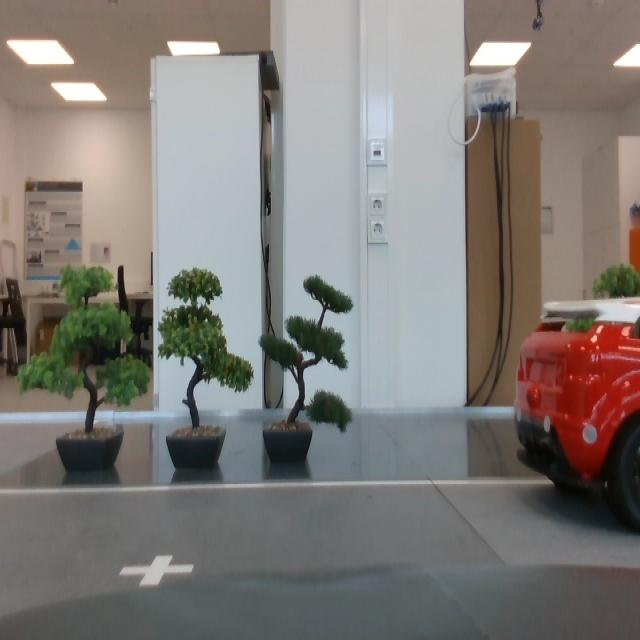car: (514, 297, 640, 532)
potted plant: (19, 265, 153, 472), (158, 259, 255, 470), (259, 275, 354, 463), (572, 266, 640, 425)
